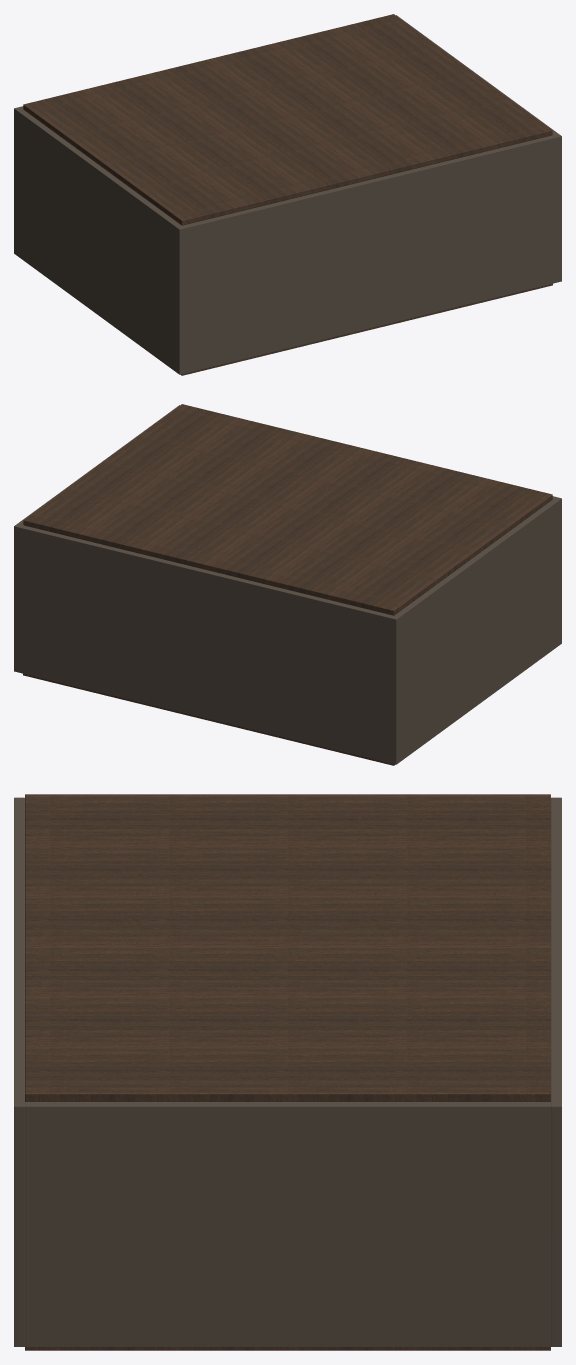
File: nocturne-mobile.glb
The picture shows the model from 3 angles, top to bottom: view 1: azimuth 30°, elevation 25°; view 2: azimuth 150°, elevation 25°; view 3: azimuth 270°, elevation 25°; orthographic projection. The views are drawn at different scales.
Visible parts, largest first — view 1: OVERHEAD_Ceiling finish, SHELL_south, SHELL_west, SHELL_Floor, SHELL_north, OVERHEAD_Smoked oak; view 2: OVERHEAD_Ceiling finish, SHELL_north, SHELL_west, SHELL_Floor, SHELL_south, OVERHEAD_Smoked oak; view 3: OVERHEAD_Ceiling finish, SHELL_east, SHELL_north, SHELL_south, SHELL_Floor.
Part boxes in pixels (box(x1,y1,x2,y2)): OVERHEAD_Ceiling finish: box(23, 14, 552, 225); SHELL_south: box(176, 134, 561, 374); SHELL_west: box(17, 109, 181, 371); SHELL_Floor: box(180, 283, 552, 375); SHELL_north: box(14, 15, 399, 255); OVERHEAD_Smoked oak: box(24, 110, 551, 225); OVERHEAD_Ceiling finish: box(23, 404, 552, 615); SHELL_north: box(14, 524, 399, 764); SHELL_west: box(394, 499, 558, 761); SHELL_Floor: box(23, 673, 395, 765); SHELL_south: box(176, 405, 561, 645); OVERHEAD_Smoked oak: box(24, 500, 551, 615); OVERHEAD_Ceiling finish: box(25, 794, 550, 1101); SHELL_east: box(25, 1102, 550, 1346); SHELL_north: box(551, 797, 561, 1346); SHELL_south: box(14, 797, 24, 1346); SHELL_Floor: box(25, 1101, 550, 1350).
Size of what is drawn, in the model's own units: 15.98 by 6.2 by 11.98.
Materials: 9 (4 with a texture image).
